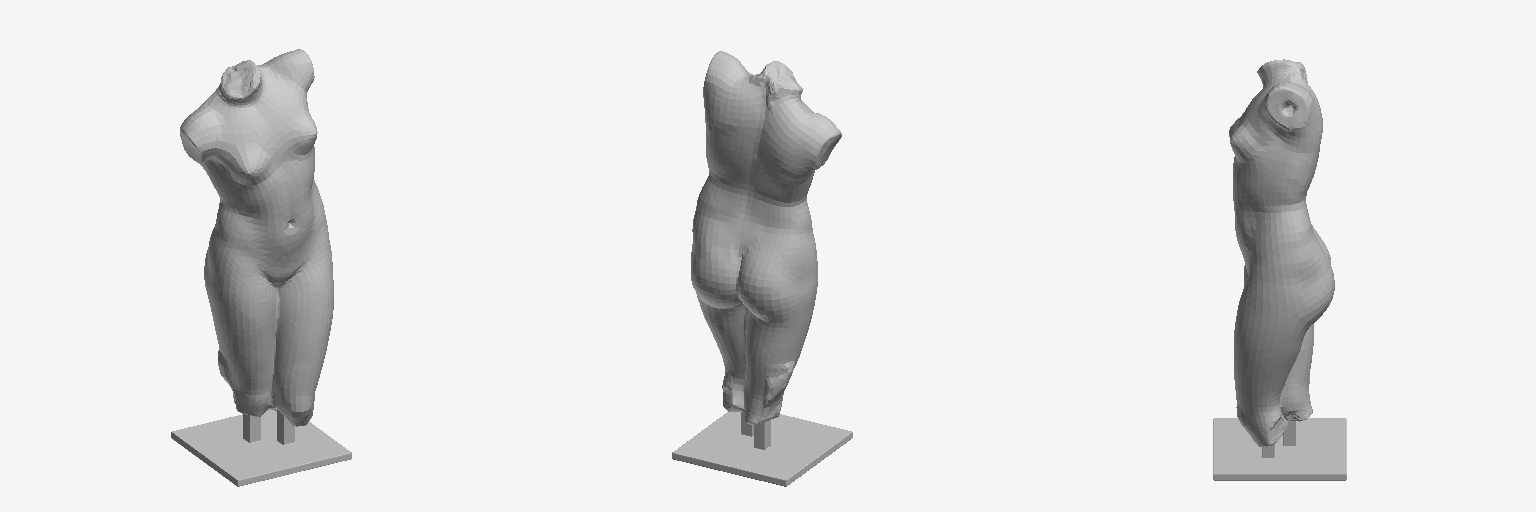
The model's file is Fragmentary_Aphrodite.obj.
3 views of the same model, side by side, from view 1: azimuth 30°, elevation 25°; view 2: azimuth 150°, elevation 25°; view 3: azimuth 270°, elevation 25° (orthographic).
Parts seen in each view (by area): view 1: aphrodite, aphrodite_base; view 2: aphrodite, aphrodite_base; view 3: aphrodite, aphrodite_base.
Part boxes in pixels (bbox=[...]): aphrodite: bbox=[180, 49, 333, 426]; aphrodite_base: bbox=[171, 409, 351, 486]; aphrodite: bbox=[691, 51, 841, 424]; aphrodite_base: bbox=[672, 411, 852, 486]; aphrodite: bbox=[1229, 59, 1334, 446]; aphrodite_base: bbox=[1213, 418, 1346, 480].
Size of the model in its own units: 38.94 by 102 by 31.81.